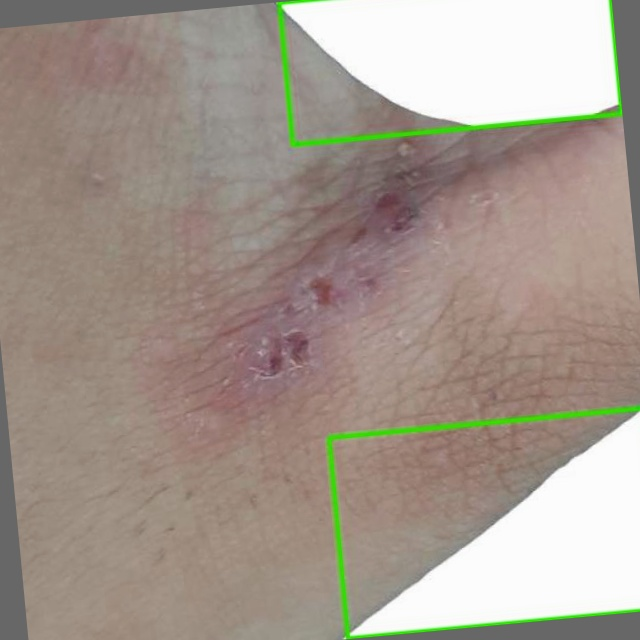Scabies: (329, 408, 639, 638), (279, 0, 621, 144)
